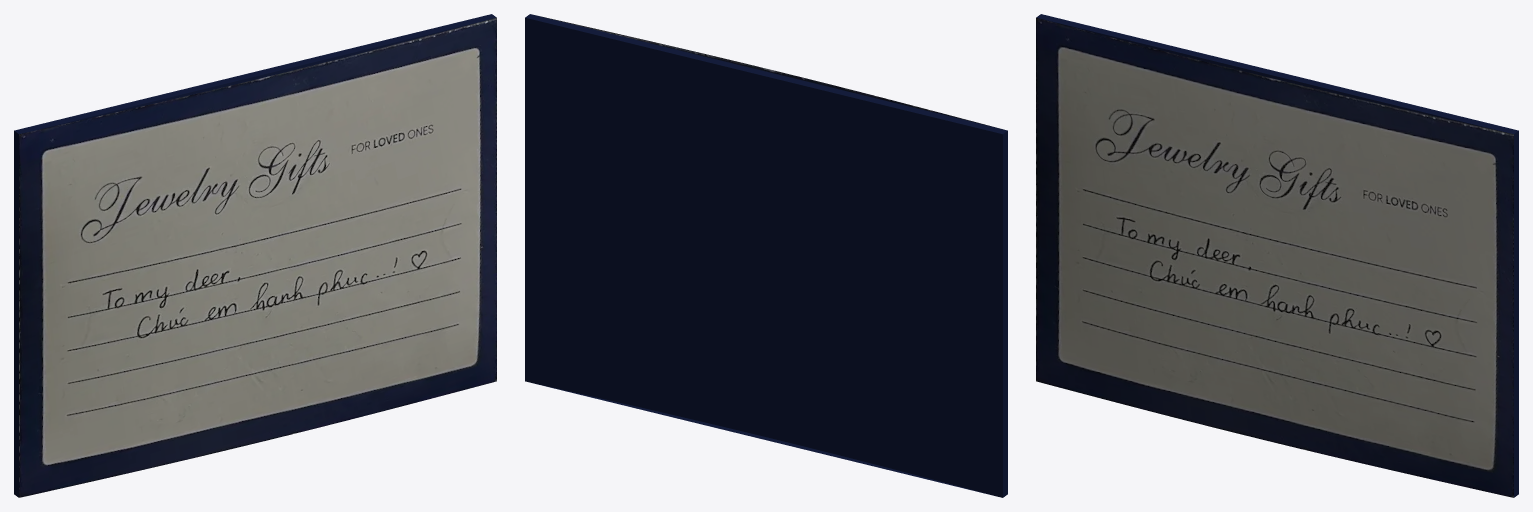
Rendered from love-letter.glb.
3 views of the same model, side by side, from view 1: azimuth 30°, elevation 25°; view 2: azimuth 150°, elevation 25°; view 3: azimuth 330°, elevation 25° (orthographic).
Parts seen in each view (by area): view 1: LoveLetterCard; view 2: LoveLetterCard; view 3: LoveLetterCard.
Boxes of the visible parts, <box> form: LoveLetterCard: <box>14,14,496,497</box>; LoveLetterCard: <box>525,14,1007,497</box>; LoveLetterCard: <box>1036,14,1518,497</box>.
Bounding box in the file's own units: 1.32 × 0.96 × 0.039.
Materials: 1 (1 with a texture image).
